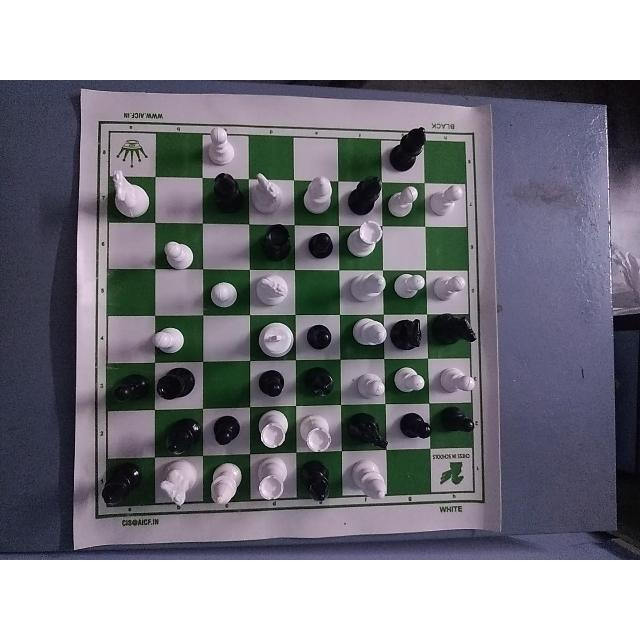black-bishop: (94, 464, 148, 514), (387, 123, 433, 173), (296, 365, 344, 407), (305, 460, 339, 514), (205, 170, 244, 215), (164, 412, 198, 460), (348, 171, 384, 215)
black-knight: (427, 311, 479, 358), (387, 310, 433, 357), (341, 412, 393, 452)
black-pawn: (436, 405, 480, 446), (299, 224, 340, 268), (105, 367, 151, 406), (296, 319, 336, 359), (207, 413, 247, 453), (399, 413, 439, 449), (254, 366, 290, 402)
black-rook: (151, 364, 199, 412), (251, 223, 293, 269)
white-bishop: (349, 458, 393, 506), (348, 314, 390, 359), (210, 461, 244, 514), (346, 272, 388, 312), (302, 172, 334, 220)
white-king: (248, 313, 298, 360)
white-knight: (156, 461, 201, 513), (107, 165, 151, 217), (250, 270, 294, 313), (250, 170, 289, 218)
white-pawn: (151, 316, 189, 362), (203, 275, 243, 317), (387, 364, 427, 404), (432, 362, 476, 398), (206, 122, 239, 168), (157, 235, 197, 272), (387, 183, 422, 223), (353, 366, 388, 404), (432, 268, 466, 304), (391, 271, 427, 305), (428, 182, 462, 217)
white-rook: (250, 406, 296, 456), (254, 458, 290, 510), (344, 218, 383, 266), (301, 409, 333, 453)
